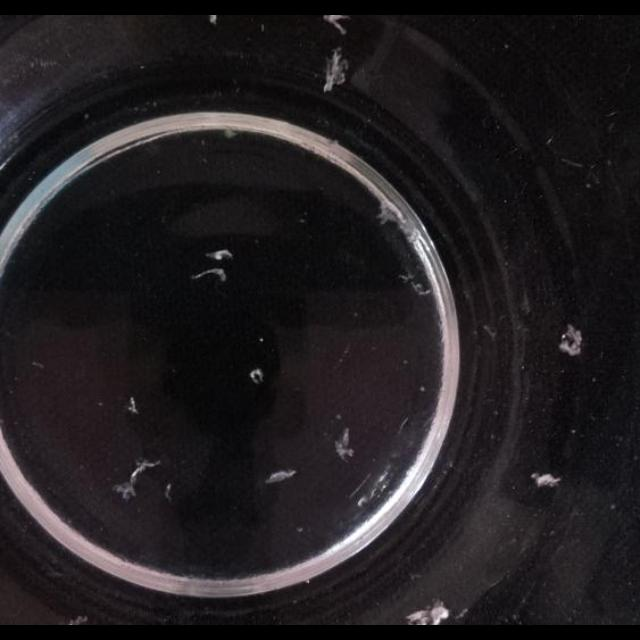Fibre: (113, 456, 161, 498), (200, 242, 232, 288), (324, 48, 351, 94), (405, 600, 449, 626), (262, 464, 300, 488), (377, 202, 408, 230), (334, 424, 356, 462), (560, 324, 584, 356), (323, 16, 351, 34), (532, 472, 562, 488), (113, 480, 137, 500), (205, 249, 233, 261), (250, 362, 264, 384), (128, 397, 140, 415), (68, 615, 88, 625), (483, 324, 497, 338), (210, 15, 218, 25)
microbeads: (418, 386, 426, 392), (296, 526, 304, 532), (571, 429, 577, 435), (258, 337, 264, 343)
